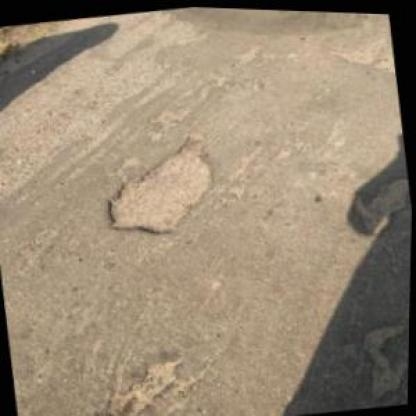pothole: (93, 124, 227, 245), (96, 350, 201, 414)
